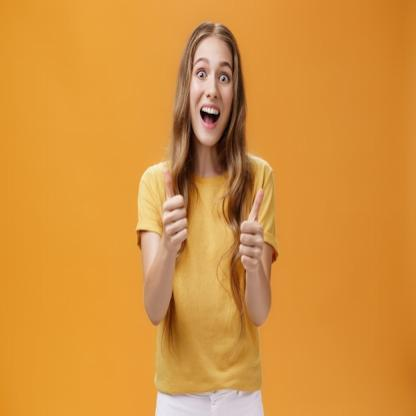thumb_up: (160, 160, 190, 254), (238, 184, 267, 272)
